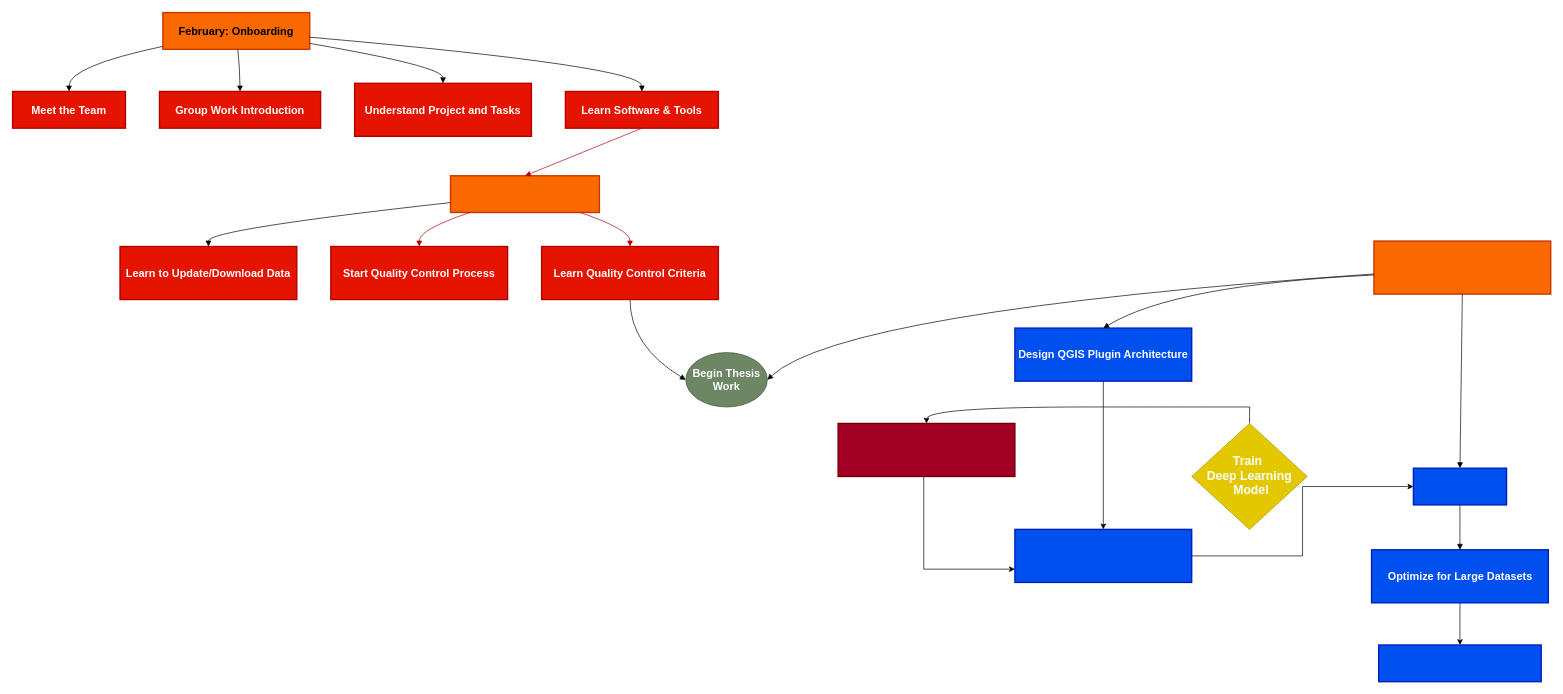
This 1563x694 diagram has some shape labels left out. Each missing label, with the box of its shape:
April - May: Development Phase: (1373, 240, 1551, 294)
Deliver Final Product: (1378, 644, 1542, 682)
Develop Plugin Functionalities: (1014, 528, 1192, 583)
Integrate DL Model into Plugin: (837, 422, 1015, 477)
March: Data & Quality: (449, 175, 600, 213)
Test Plugin: (1412, 467, 1507, 505)
